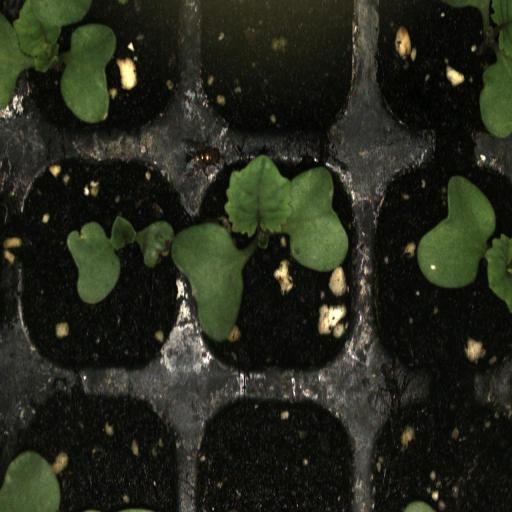noseedling: (194, 0, 363, 141), (193, 390, 364, 512)
seedling: (190, 145, 361, 386)
weak: (10, 143, 189, 386)
